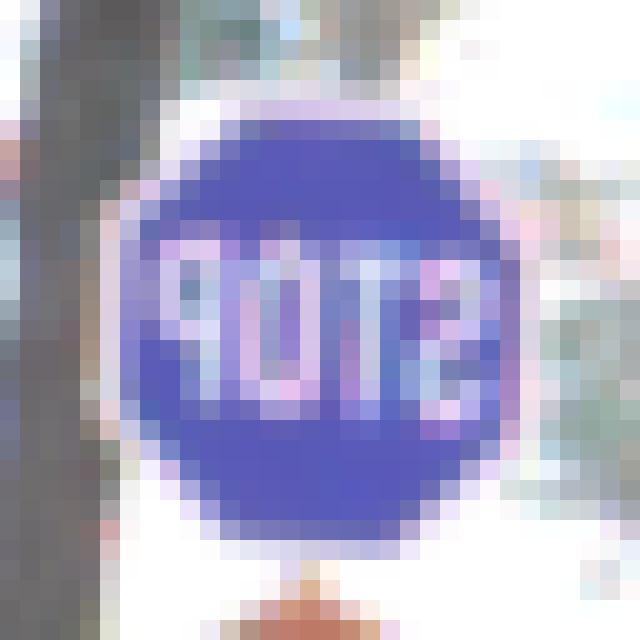STOP: (120, 114, 526, 546)
